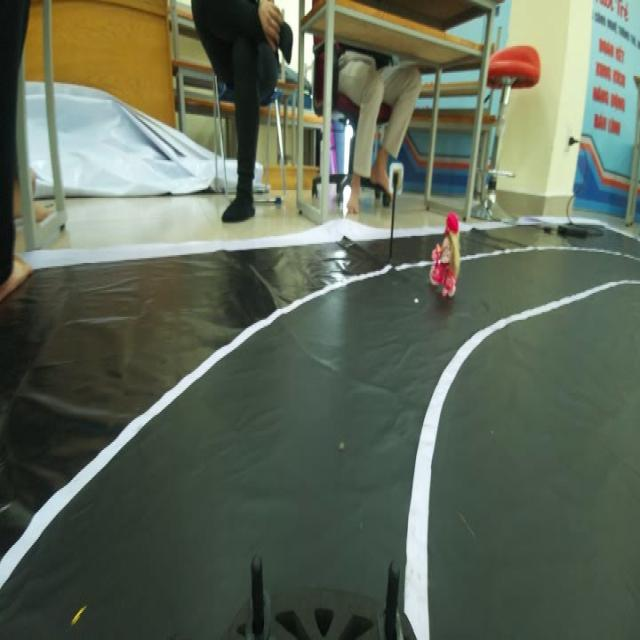pedestrian: (430, 186, 464, 307)
